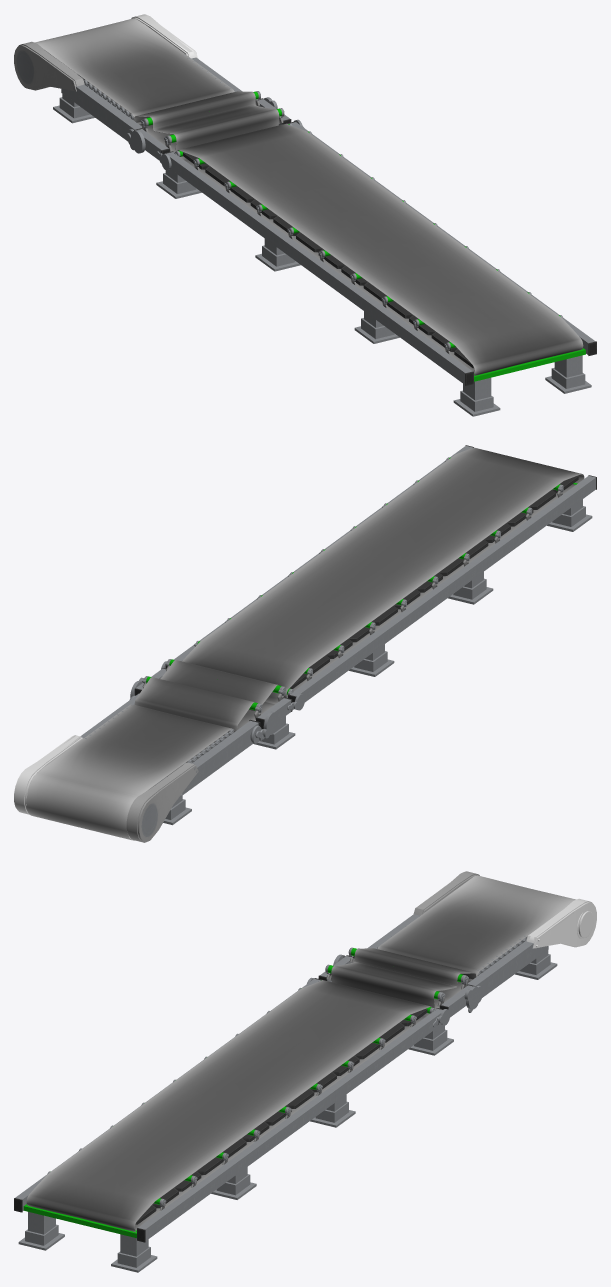
The picture shows the model from 3 angles, top to bottom: view 1: azimuth 30°, elevation 25°; view 2: azimuth 150°, elevation 25°; view 3: azimuth 330°, elevation 25°; orthographic projection.
Parts seen in each view (by area): view 1: Object137, Piece1 - Low, Object178, Object177, Object154, Object156, bl19, Object175, Object176, Object112, Object183, Object116 (+10 smaller); view 2: Object137, Piece1 - Low, Piece1 - Hi004, Object154, Object176, Object175, Object156, Object177, Object112, Object117, Object115, Object116 (+8 smaller); view 3: Object137, Piece1 - Hi004, Object177, Object178, Object257, Piece1 - Hi003, bl19, Object258, Object179, Object180, Object181, Piece1 - Low (+11 smaller).
Boxes of the visible parts, <box> form: Object137: <box>35,18,583,375</box>; Piece1 - Low: <box>14,41,84,91</box>; Object178: <box>545,355,591,393</box>; Object177: <box>453,377,500,416</box>; Object154: <box>99,102,141,141</box>; Object156: <box>61,84,107,120</box>; bl19: <box>474,348,585,381</box>; Object175: <box>255,238,300,271</box>; Object176: <box>354,311,399,343</box>; Object112: <box>156,169,201,198</box>; Object183: <box>53,74,94,123</box>; Object116: <box>220,192,254,225</box>; Object137: <box>26,447,584,840</box>; Piece1 - Low: <box>126,762,198,842</box>; Piece1 - Hi004: <box>14,735,83,814</box>; Object154: <box>212,720,258,766</box>; Object176: <box>448,572,493,604</box>; Object175: <box>349,644,394,676</box>; Object156: <box>181,748,220,795</box>; Object177: <box>547,499,592,531</box>; Object112: <box>253,716,295,749</box>; Object117: <box>371,615,405,648</box>; Object115: <box>317,655,350,688</box>; Object116: <box>344,635,378,668</box>; Object137: <box>26,875,575,1232</box>; Piece1 - Hi004: <box>527,898,596,948</box>; Object177: <box>18,1212,64,1250</box>; Object178: <box>111,1234,157,1272</box>; Object257: <box>467,958,510,997</box>; Piece1 - Hi003: <box>526,899,593,948</box>; bl19: <box>23,1204,136,1238</box>; Object258: <box>502,940,548,976</box>; Object179: <box>211,1167,256,1199</box>; Object180: <box>310,1094,355,1127</box>; Object181: <box>408,1025,453,1055</box>; Piece1 - Low: <box>413,871,479,915</box>.
Size of the model in its own units: 8.02 by 3.32 by 46.9.
